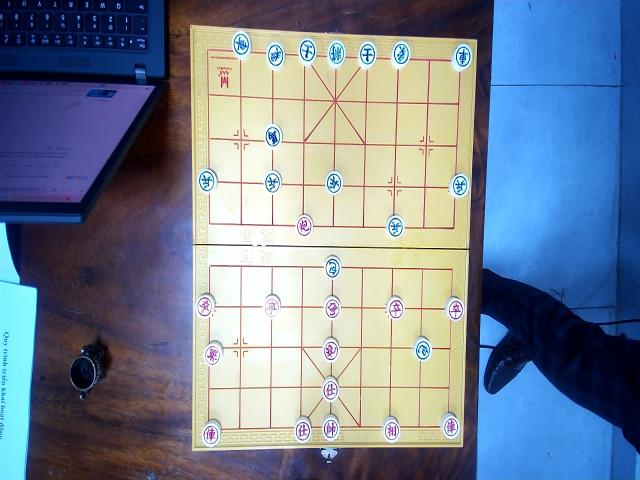piece: (451, 43, 473, 72), (448, 172, 470, 199), (326, 39, 346, 68), (231, 30, 251, 59), (390, 41, 410, 69), (266, 41, 285, 70), (298, 37, 317, 66), (444, 295, 464, 322), (381, 416, 401, 443), (440, 412, 460, 439), (203, 341, 223, 368), (294, 415, 312, 444), (195, 292, 215, 318), (201, 421, 221, 447), (412, 336, 432, 362), (358, 40, 376, 68), (197, 168, 217, 193), (322, 337, 340, 364), (264, 123, 282, 150), (322, 415, 340, 441), (386, 295, 404, 320), (263, 294, 281, 319), (323, 295, 341, 320), (325, 170, 343, 195), (321, 377, 339, 402), (386, 215, 404, 239), (295, 214, 313, 238), (263, 170, 281, 194), (324, 255, 342, 279)
